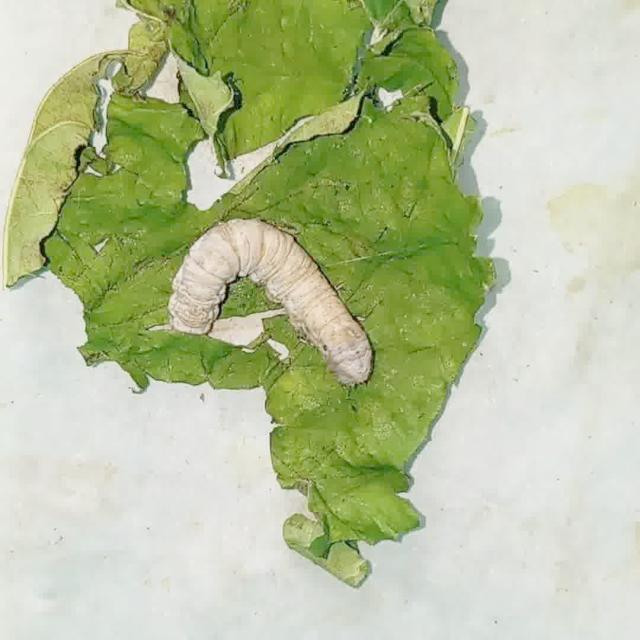Grasserie: (142, 193, 416, 425)
